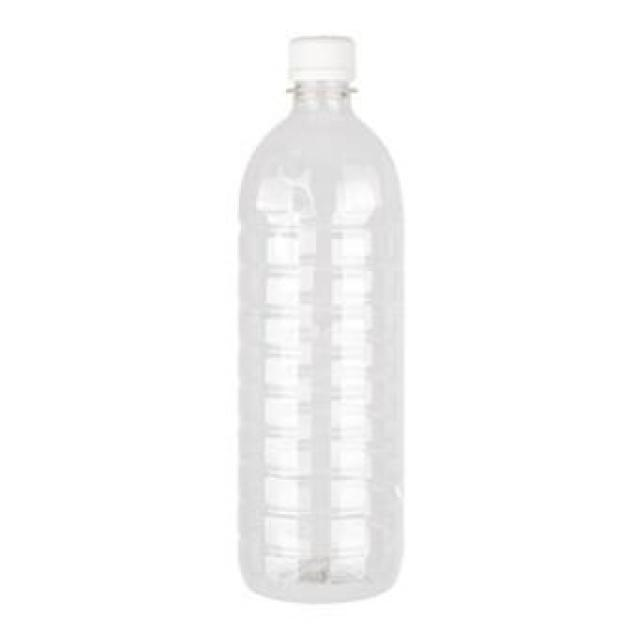bottle: (228, 14, 427, 628)
